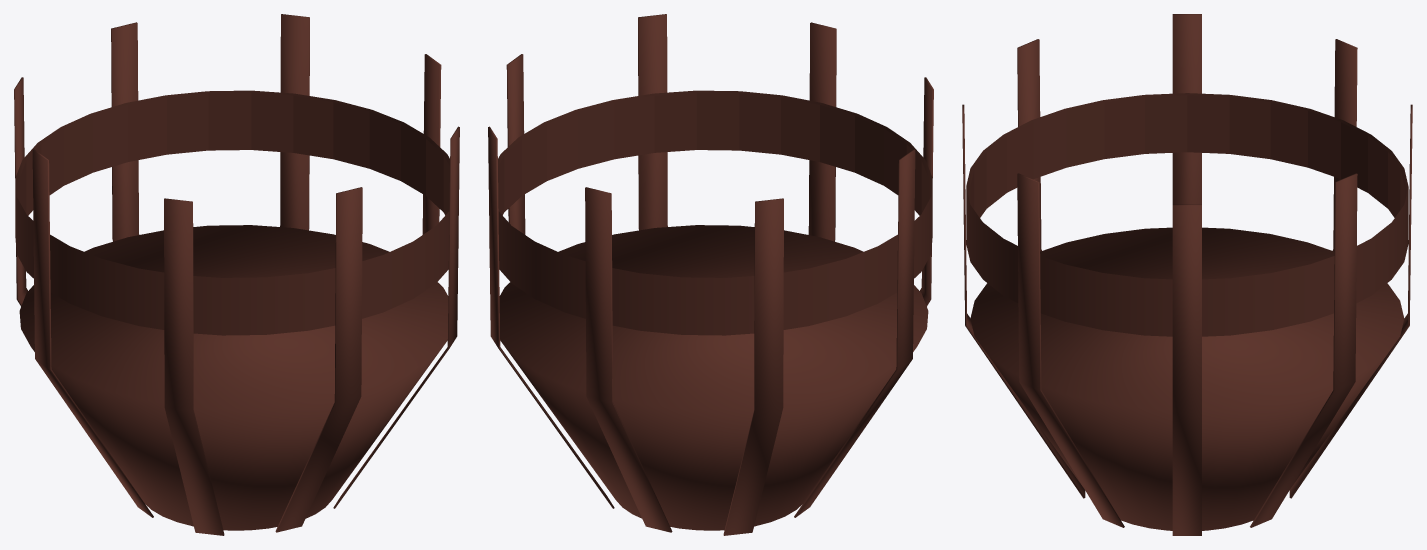
The model's file is GoalSwitch.obj.
3 renders of one model, left to right at view 1: azimuth 30°, elevation 25°; view 2: azimuth 150°, elevation 25°; view 3: azimuth 270°, elevation 25°, orthographic.
Visible parts, largest first — view 1: 円柱; view 2: 円柱; view 3: 円柱.
Boxes of the visible parts, left/top/right/bottom form: 円柱: left=14, top=14, right=459, bottom=535; 円柱: left=488, top=14, right=933, bottom=535; 円柱: left=962, top=14, right=1412, bottom=535.
Bounding box in the file's own units: 4.61 × 4.29 × 4.58.
Materials: 1 (1 with a texture image).
